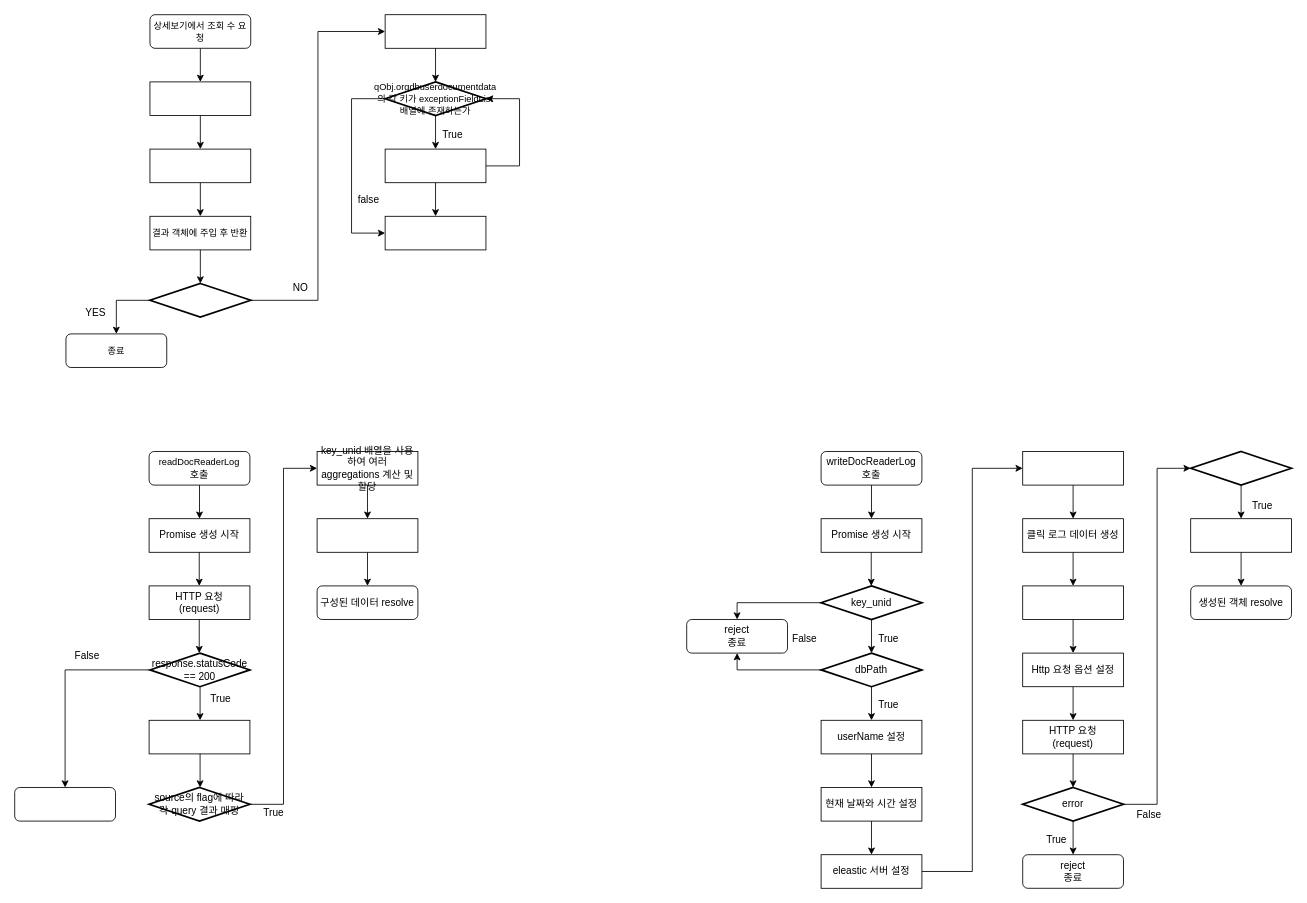
This 1307x903 diagram has some shape labels left out. Here are the shapes that lost their labels. From the top down, the centre of each, then its label:
At [435,31]: "qObj.orgdbuserdocumentdata".
At [200,98]: "getAggrQuery(dbPath, username, key_unid) 로 options 생성".
At [200,165]: "생성된 options로 readDocReaderLog 호출".
At [435,165]: "LangToObj를 통해 객체나 배열로 변환".
At [435,232]: "writeDocReaderLog를 호출하여 조회수 기록".
At [200,300]: "작성자일 경우".
At [1073,468]: "읽음 로그 데이터 생성".
At [1240,468]: "response.statusCode === 200".
At [367,535]: "최종 결과 데이터 구성".
At [1241,535]: "결과 데이터 파싱 및 객체 저장".
At [1073,602]: "각 데이터 JSON으로 변환".
At [199,736]: "응답을 JSON으로 파싱파여 각 응답에 대한집계 aggregations에 할당".
At [65,804]: "기본 결과 객체 반환".
